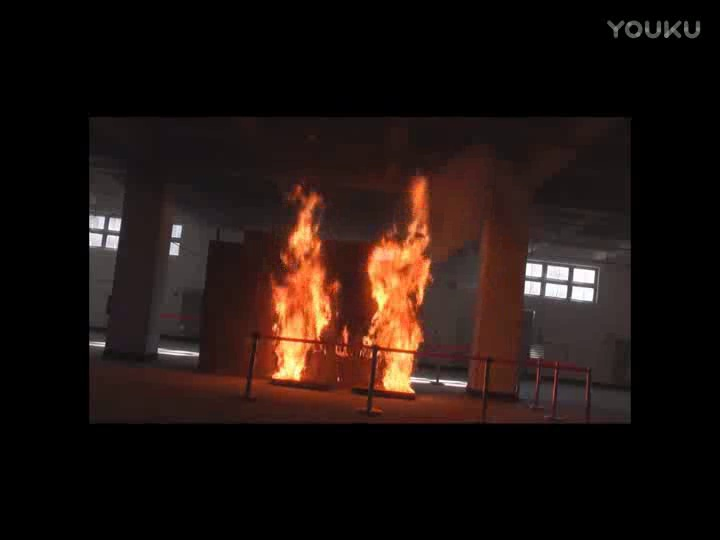fire: (368, 177, 431, 395), (268, 184, 335, 384)
